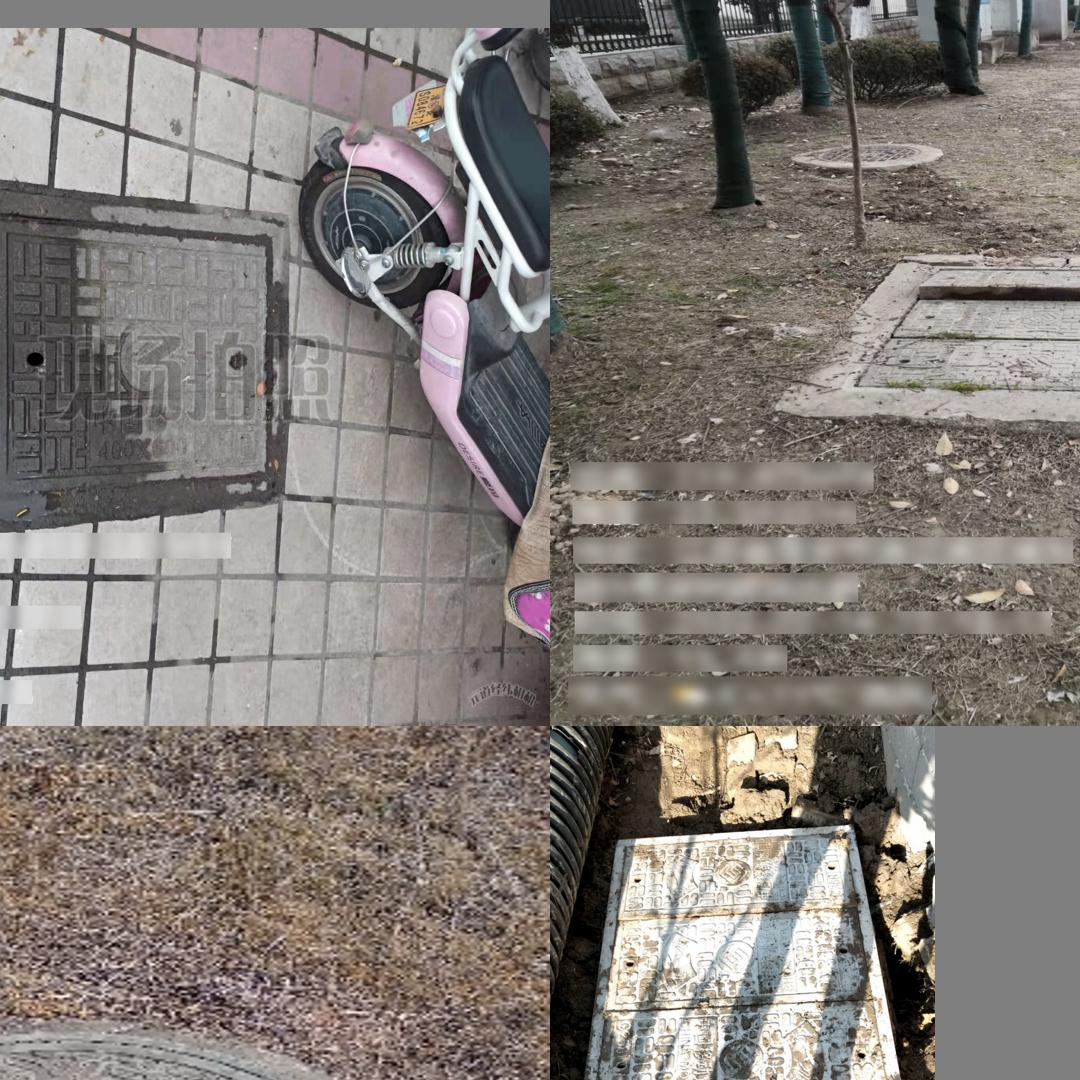good: (0, 186, 285, 511), (612, 839, 902, 1080), (0, 1034, 467, 1080), (789, 144, 927, 171)
uncovered: (839, 261, 1080, 403)
